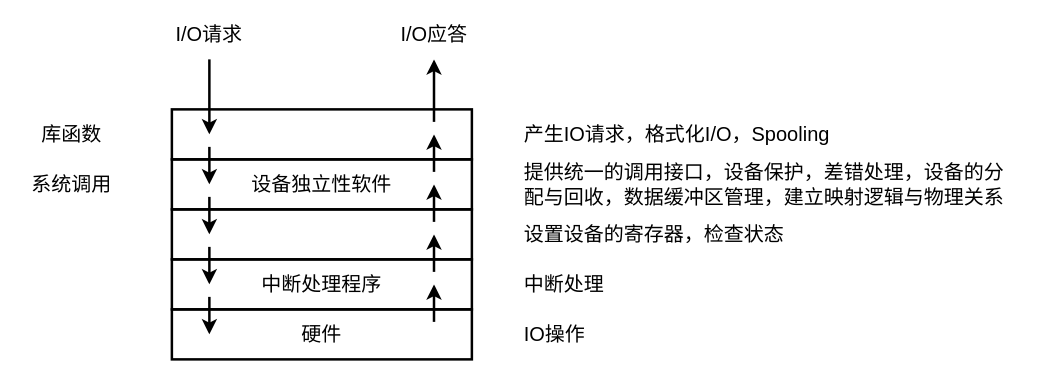
The diagram is 1043 pixels wide and 381 high, and some of its shapes have lost their labels. The shapes that lost their labels are listed below. From the top down, each one's box as (x1, y1, x2, y2) in pixels, then its label:
(170, 108, 472, 160): 用户层软件
(170, 208, 472, 260): 设备驱动程序
